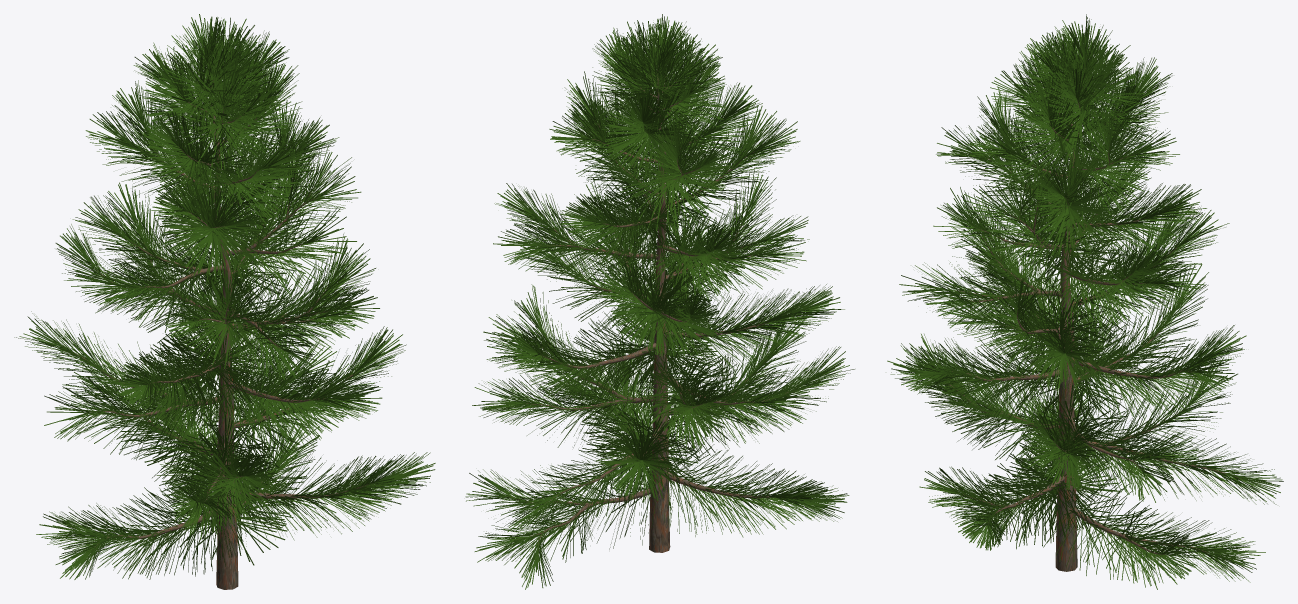
Rendered from Taller fat tree.fbx.
3 renders of one model, left to right at view 1: azimuth 30°, elevation 25°; view 2: azimuth 150°, elevation 25°; view 3: azimuth 270°, elevation 25°, orthographic. The views are drawn at different scales.
Visible parts, largest first — view 1: leaves.001, tree.001; view 2: leaves.001, tree.001; view 3: leaves.001, tree.001.
Part boxes in pixels (left/top/right/bottom): leaves.001: left=14, top=14, right=435, bottom=579; tree.001: left=75, top=75, right=368, bottom=589; leaves.001: left=465, top=14, right=854, bottom=589; tree.001: left=508, top=66, right=795, bottom=552; leaves.001: left=887, top=14, right=1283, bottom=589; tree.001: left=945, top=68, right=1242, bottom=571.
Bounding box in the file's own units: 2750 × 4049 × 2704.
Materials: 2 (1 with a texture image).
